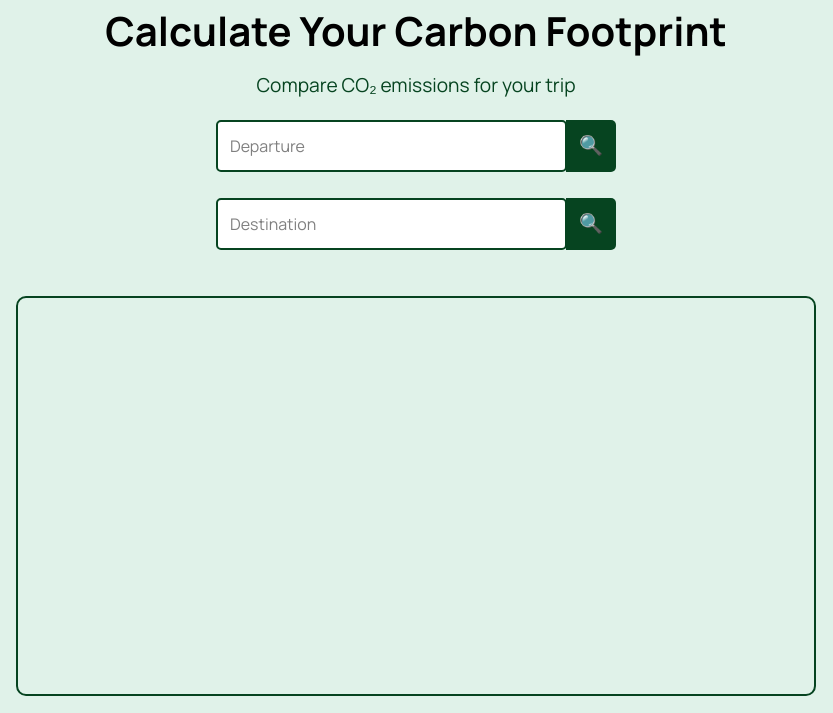
Enter in an address field searches
Step 1. Type "Paris" into the field with placeholder "Departure" → (392, 146), box top-left (216, 120), bottom-right (567, 172)
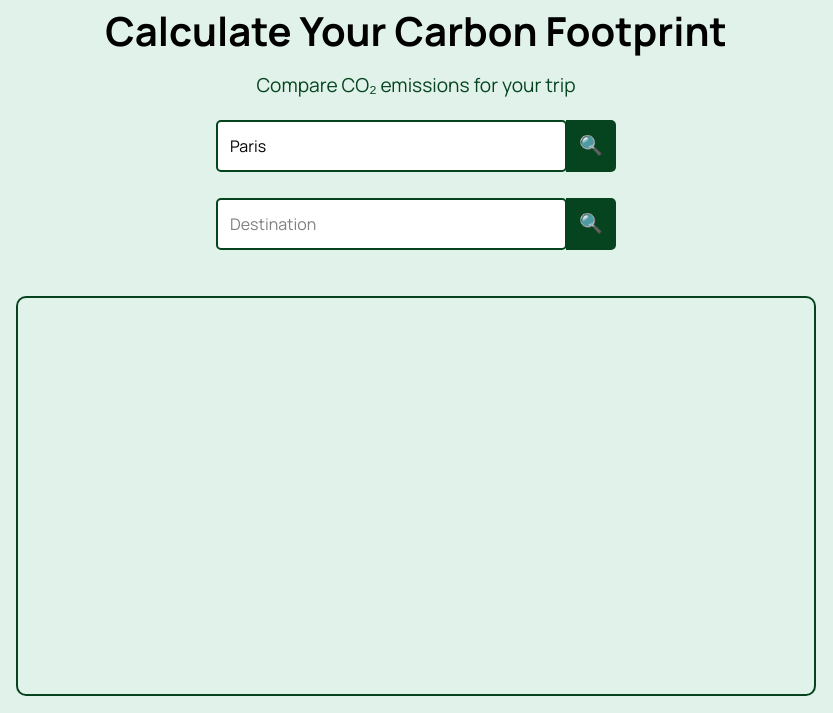
Step 2. Submit the form from the field with placeholder "Departure", box top-left (216, 120), bottom-right (567, 172)
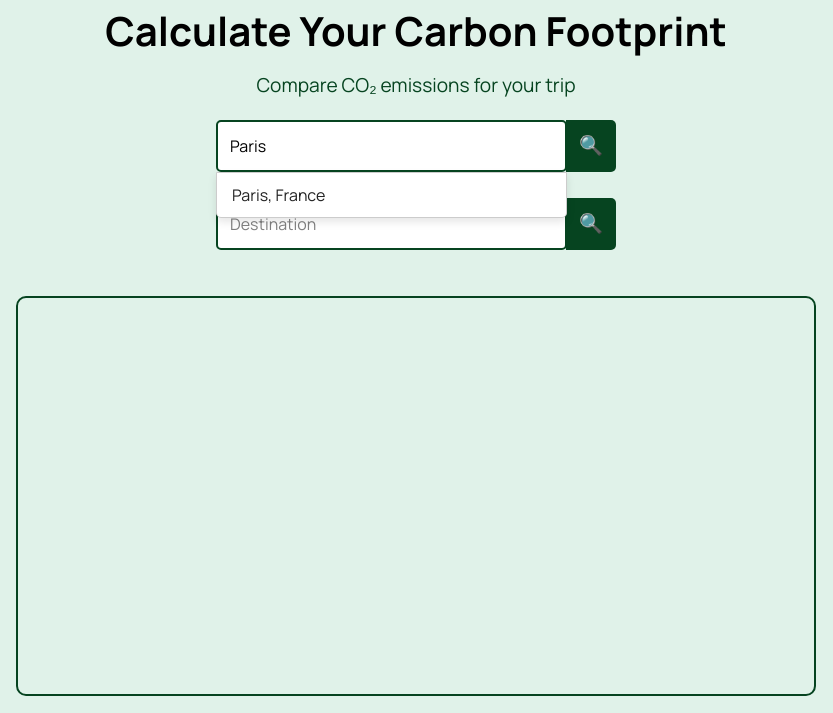
Now the list item "Paris, France" is shown, box top-left (232, 184), bottom-right (325, 206)
